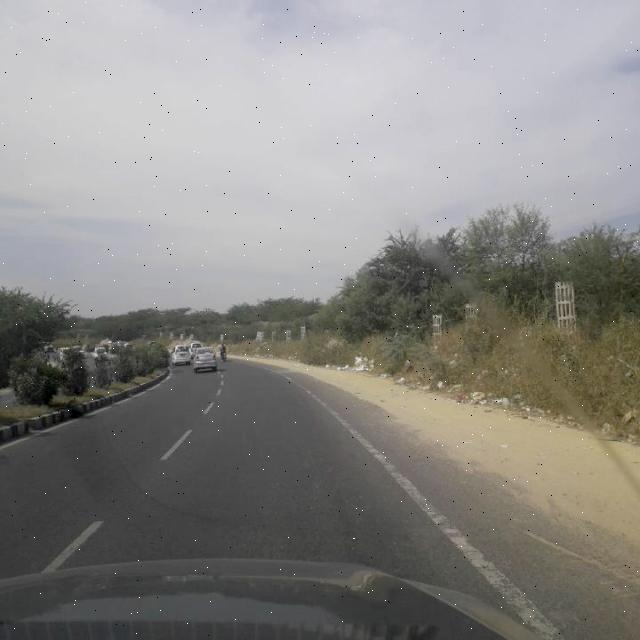D44: (302, 378, 611, 634)
